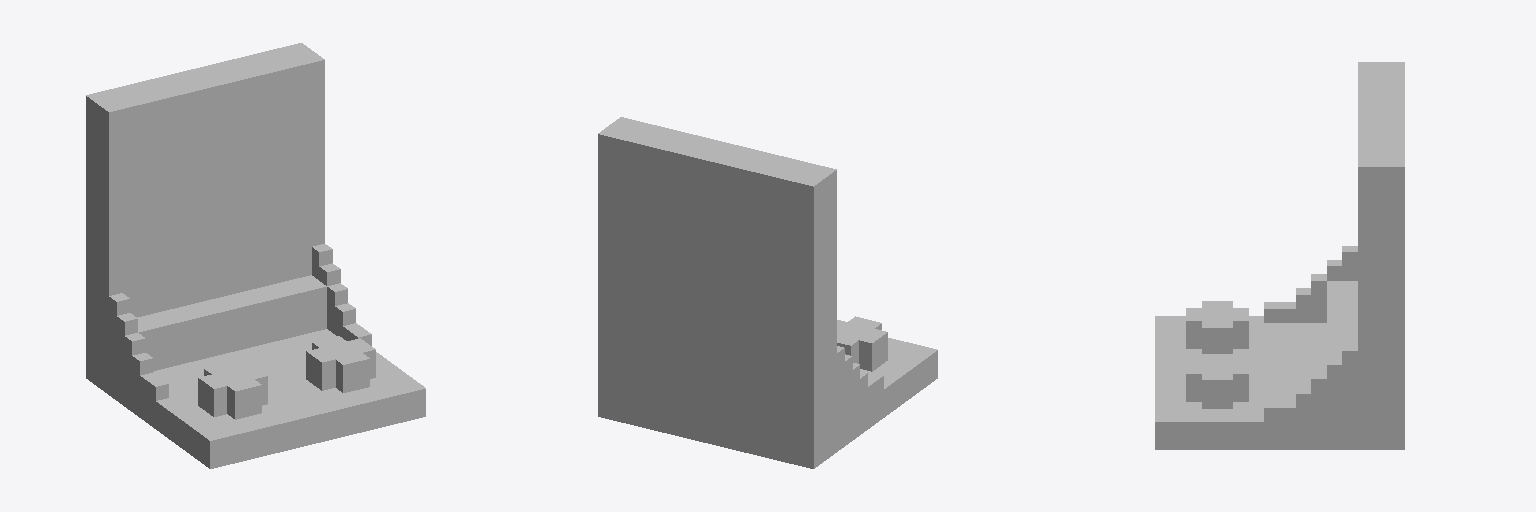
Rendered from Chair.obj.
3 renders of one model, left to right at view 1: azimuth 30°, elevation 25°; view 2: azimuth 150°, elevation 25°; view 3: azimuth 270°, elevation 25°, orthographic.
Size of the model in its own units: 16 by 20 by 16.